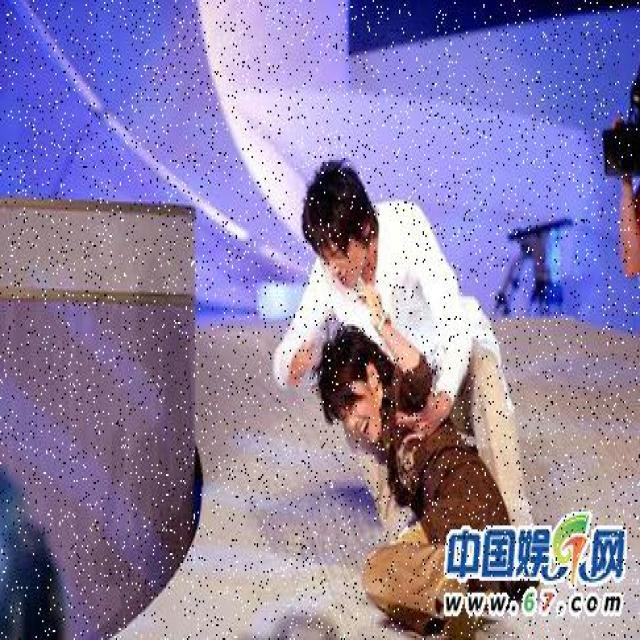fall: (322, 344, 479, 606)
